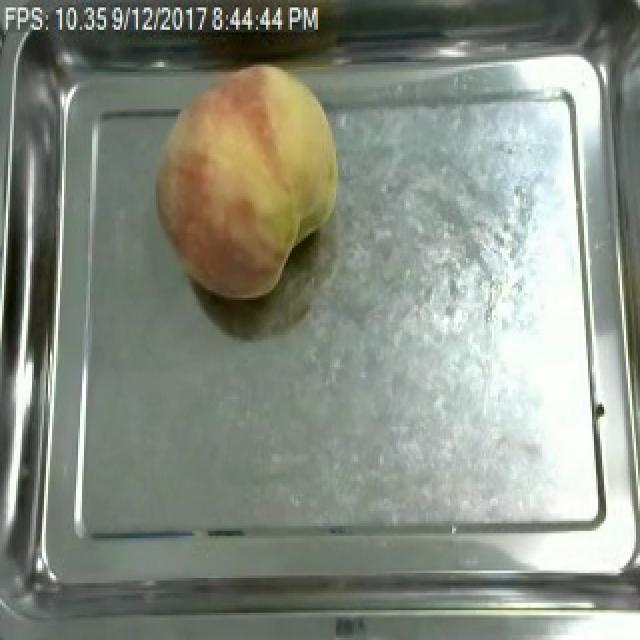Fruit: (148, 62, 352, 308)
